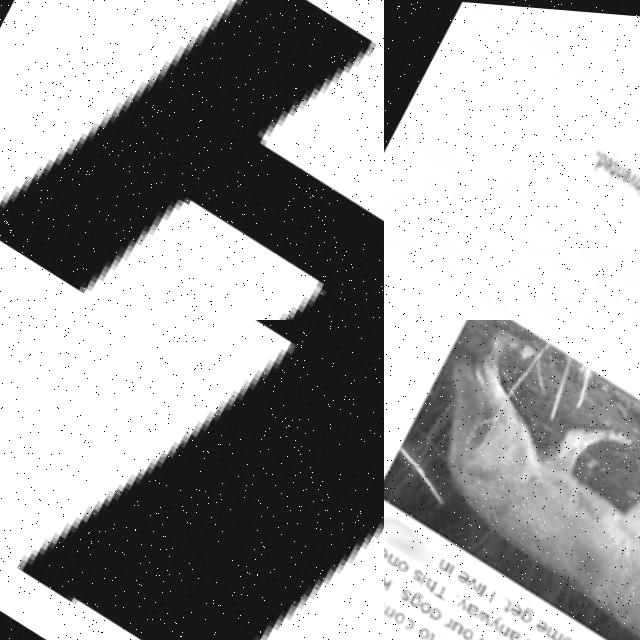A: (496, 624, 512, 640), (454, 598, 470, 614)
C: (392, 612, 409, 630), (559, 633, 574, 640)
D: (417, 602, 434, 621)
E: (523, 612, 541, 630), (498, 596, 515, 614), (446, 565, 462, 581)
G: (508, 599, 528, 622), (398, 587, 416, 606)
H: (0, 0, 384, 320), (413, 572, 430, 590), (463, 630, 480, 640), (516, 636, 531, 640)
I: (435, 559, 447, 575), (409, 569, 420, 584), (478, 585, 489, 600), (464, 577, 475, 591)
L: (0, 320, 384, 640), (469, 579, 479, 594)
M: (535, 619, 555, 638)
N: (486, 617, 502, 633), (428, 553, 444, 569), (384, 550, 390, 565)
O: (406, 622, 422, 638), (450, 622, 466, 638), (409, 597, 425, 613), (386, 556, 402, 572), (384, 607, 397, 623), (548, 627, 564, 640)
R: (434, 613, 446, 626)
S: (389, 584, 405, 600), (400, 564, 416, 580), (425, 633, 441, 640)
T: (423, 578, 443, 598), (492, 594, 505, 610), (413, 627, 427, 640), (510, 632, 523, 640)
U: (440, 616, 456, 632)
V: (456, 570, 471, 586)
W: (464, 604, 484, 623)
Y: (478, 607, 495, 626), (446, 588, 463, 607)
